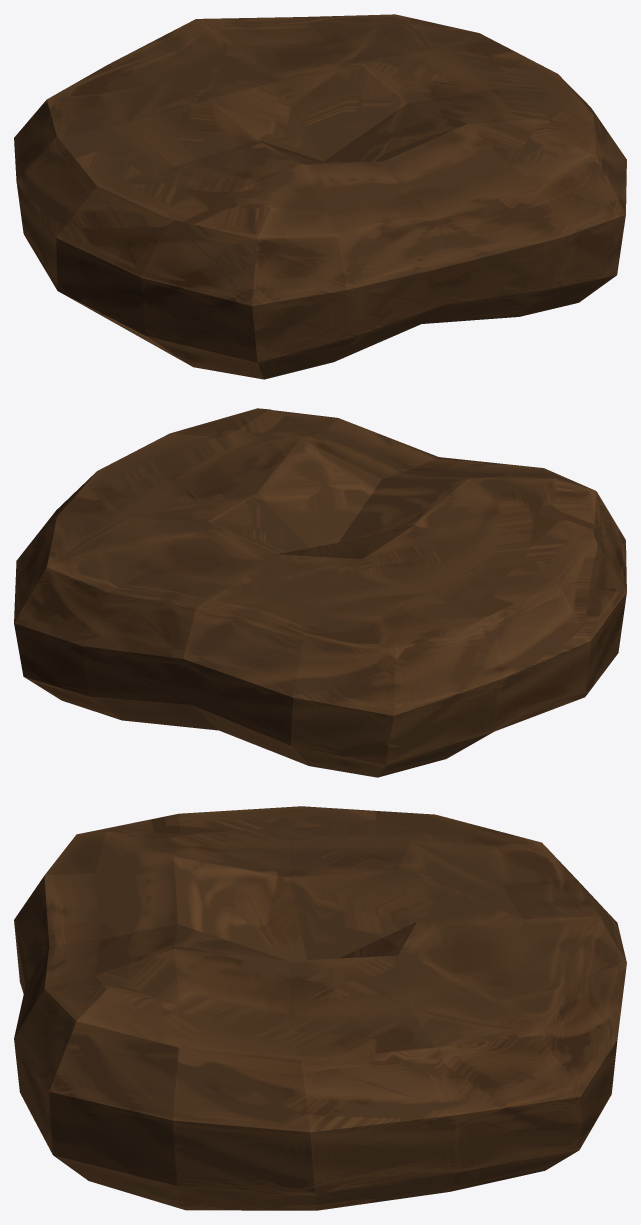
Rendered from mole_hole_lp_txt.fbx.
The picture shows the model from 3 angles, top to bottom: view 1: azimuth 30°, elevation 25°; view 2: azimuth 150°, elevation 25°; view 3: azimuth 270°, elevation 25°; orthographic projection. The views are drawn at different scales.
Visible parts, largest first — view 1: mole_hole_lp; view 2: mole_hole_lp; view 3: mole_hole_lp.
Part boxes in pixels (box(x1,y1,x2,y2)): mole_hole_lp: box(14, 14, 626, 379); mole_hole_lp: box(14, 408, 626, 777); mole_hole_lp: box(14, 806, 626, 1210).
Bounding box in the file's own units: 185 × 62.14 × 162.
Materials: 1 (1 with a texture image).
